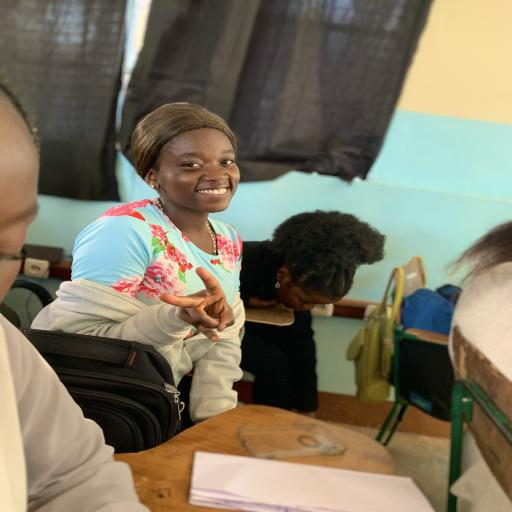LAURENE: (124, 100, 252, 226)
